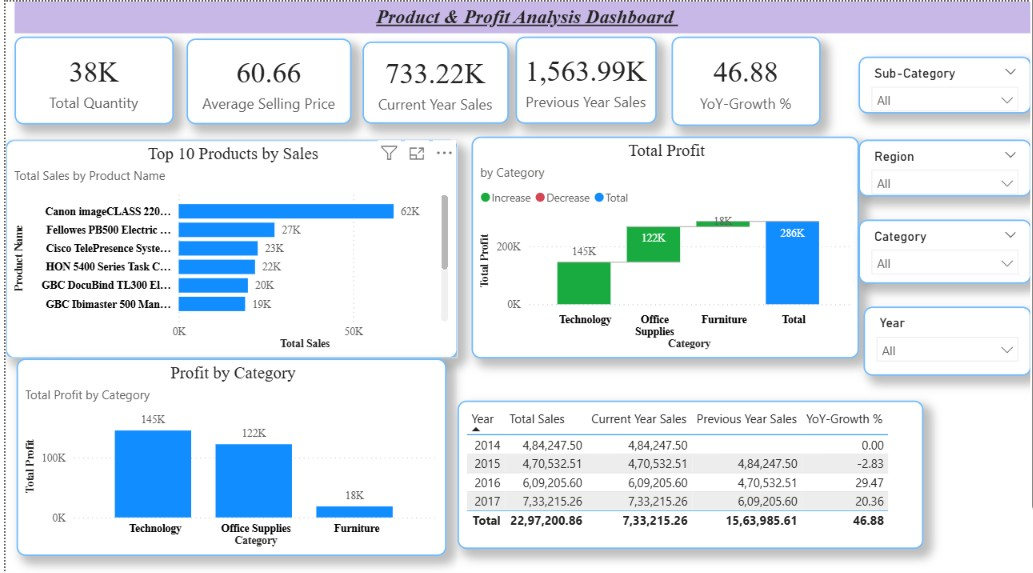

Layout of this report page (visuals, bound fields, positions):
{"tool":"powerbi","page":{"name":"Product & Profit Analysis Dashboard","canvas":[1280,720],"ordinal":2},"visuals":[{"type":"textbox","box":[10,0,1138.9,35.6],"z":0},{"type":"card","fields":{"Values":["Sample - Superstore.Total Quantity"]},"box":[10,38.9,176.7,97.8],"z":1000},{"type":"card","fields":{"Values":["Sample - Superstore.Average Selling Price"]},"box":[201.1,41.1,183.3,95.6],"z":2000},{"type":"card","fields":{"Values":["Sample - Superstore.Current Year Sales"]},"box":[396.7,44.4,162.2,91.1],"z":3000},{"type":"card","fields":{"Values":["Sample - Superstore.Previous Year Sales"]},"box":[566.7,38.9,156.7,96.7],"z":4000},{"type":"card","fields":{"Values":["Sample - Superstore.YoY-Growth %"]},"box":[740,38.9,165.6,98.9],"z":5000},{"type":"clusteredBarChart","title":"Top 10 Products by Sales","fields":{"Category":["Sample - Superstore.Product Name"],"Y":["Sample - Superstore.Total Sales"]},"box":[0,153.3,502.2,243.3],"z":6000},{"type":"clusteredColumnChart","title":"Profit by Category","fields":{"Category":["Sample - Superstore.Category"],"Y":["Sample - Superstore.Total Profit"]},"box":[12.2,396.7,477.8,218.9],"z":7000},{"type":"waterfallChart","fields":{"Y":["Sample - Superstore.Total Profit"],"Category":["Sample - Superstore.Category"]},"box":[517.8,150,430,246.7],"z":8000},{"type":"tableEx","fields":{"Values":["Dim_Date.Year","Sample - Superstore.Total Sales","Sample - Superstore.Current Year Sales","Sample - Superstore.Previous Year Sales","Sample - Superstore.YoY-Growth %"]},"box":[502.2,443.3,517.8,164.4],"z":9000},{"type":"slicer","fields":{"Values":["Sample - Superstore.Category"]},"box":[947.8,242.2,192.2,71.1],"z":10000},{"type":"slicer","fields":{"Values":["Dim_Date.Year"]},"box":[953.3,338.9,186.7,76.7],"z":11000},{"type":"slicer","fields":{"Values":["Sample - Superstore.Sub-Category"]},"box":[947.8,61.1,192.2,63.3],"z":12000},{"type":"slicer","fields":{"Values":["Sample - Superstore.Region"]},"box":[947.8,153.3,192.2,63.3],"z":13000}]}

Visuals, with their boxes in screenshot pixels (x1, y1, x2, y2), scaled from the page's 1280x720 canvas onto the 1033x573 screenshot:
textbox: pyautogui.locateOnScreen(8, 0, 927, 28)
card - Sample - Superstore.Total Quantity: pyautogui.locateOnScreen(8, 31, 151, 109)
card - Sample - Superstore.Average Selling Price: pyautogui.locateOnScreen(162, 33, 310, 109)
card - Sample - Superstore.Current Year Sales: pyautogui.locateOnScreen(320, 35, 451, 108)
card - Sample - Superstore.Previous Year Sales: pyautogui.locateOnScreen(457, 31, 584, 108)
card - Sample - Superstore.YoY-Growth %: pyautogui.locateOnScreen(597, 31, 731, 110)
"Top 10 Products by Sales" clusteredBarChart: pyautogui.locateOnScreen(0, 122, 405, 316)
"Profit by Category" clusteredColumnChart: pyautogui.locateOnScreen(10, 316, 395, 490)
waterfallChart - Sample - Superstore.Total Profit x Sample - Superstore.Category: pyautogui.locateOnScreen(418, 119, 765, 316)
tableEx - Dim_Date.Year x Sample - Superstore.Total Sales: pyautogui.locateOnScreen(405, 353, 823, 484)
slicer - Sample - Superstore.Category: pyautogui.locateOnScreen(765, 193, 920, 249)
slicer - Dim_Date.Year: pyautogui.locateOnScreen(769, 270, 920, 331)
slicer - Sample - Superstore.Sub-Category: pyautogui.locateOnScreen(765, 49, 920, 99)
slicer - Sample - Superstore.Region: pyautogui.locateOnScreen(765, 122, 920, 172)
